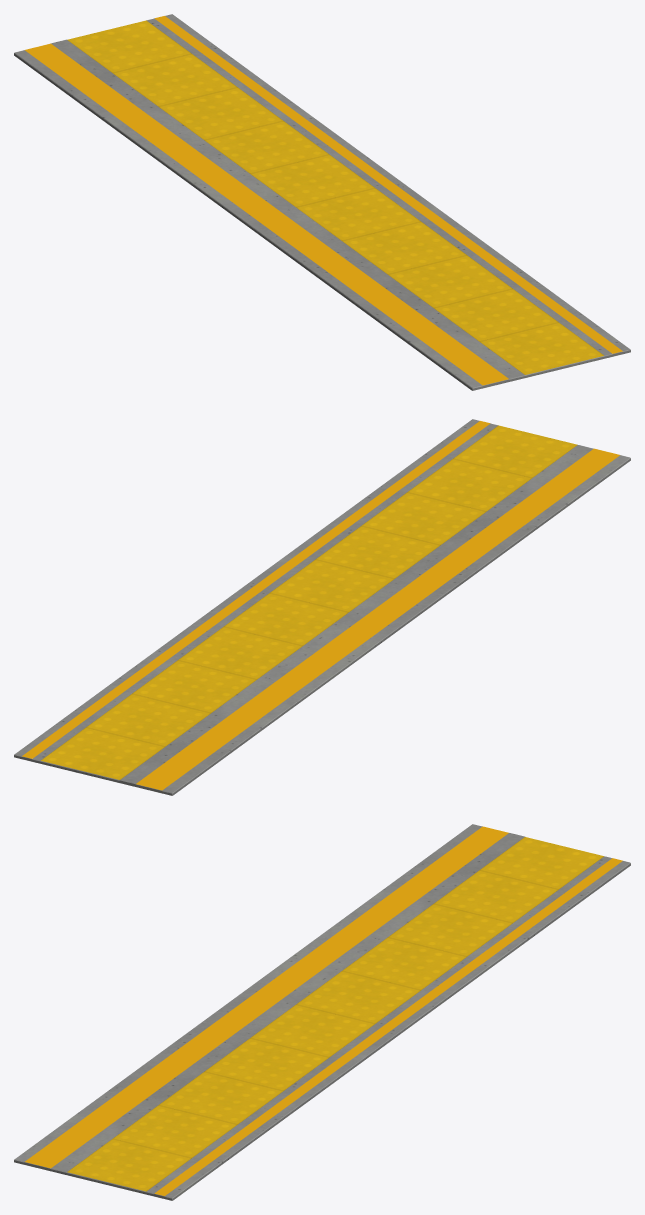
The model's file is gteki_platform_edge_l3000_innerline.glb.
3 views of the same model, one above another, from view 1: azimuth 30°, elevation 25°; view 2: azimuth 150°, elevation 25°; view 3: azimuth 330°, elevation 25° (orthographic).
Visible parts, largest first — view 1: VIS_tactile, VIS_coping, VIS_line; view 2: VIS_tactile, VIS_coping, VIS_line; view 3: VIS_tactile, VIS_coping, VIS_line.
Part boxes in pixels (box(x1,y1,x2,y2)): VIS_tactile: box(67, 20, 604, 377); VIS_coping: box(14, 14, 630, 390); VIS_line: box(25, 16, 623, 388); VIS_tactile: box(40, 425, 577, 782); VIS_coping: box(14, 419, 630, 795); VIS_line: box(21, 421, 619, 793); VIS_tactile: box(66, 837, 603, 1194); VIS_coping: box(14, 824, 630, 1200); VIS_line: box(24, 826, 622, 1198).
Size of the model in its own units: 0.6 by 0.01 by 3.
Materials: 3 (2 with a texture image).
